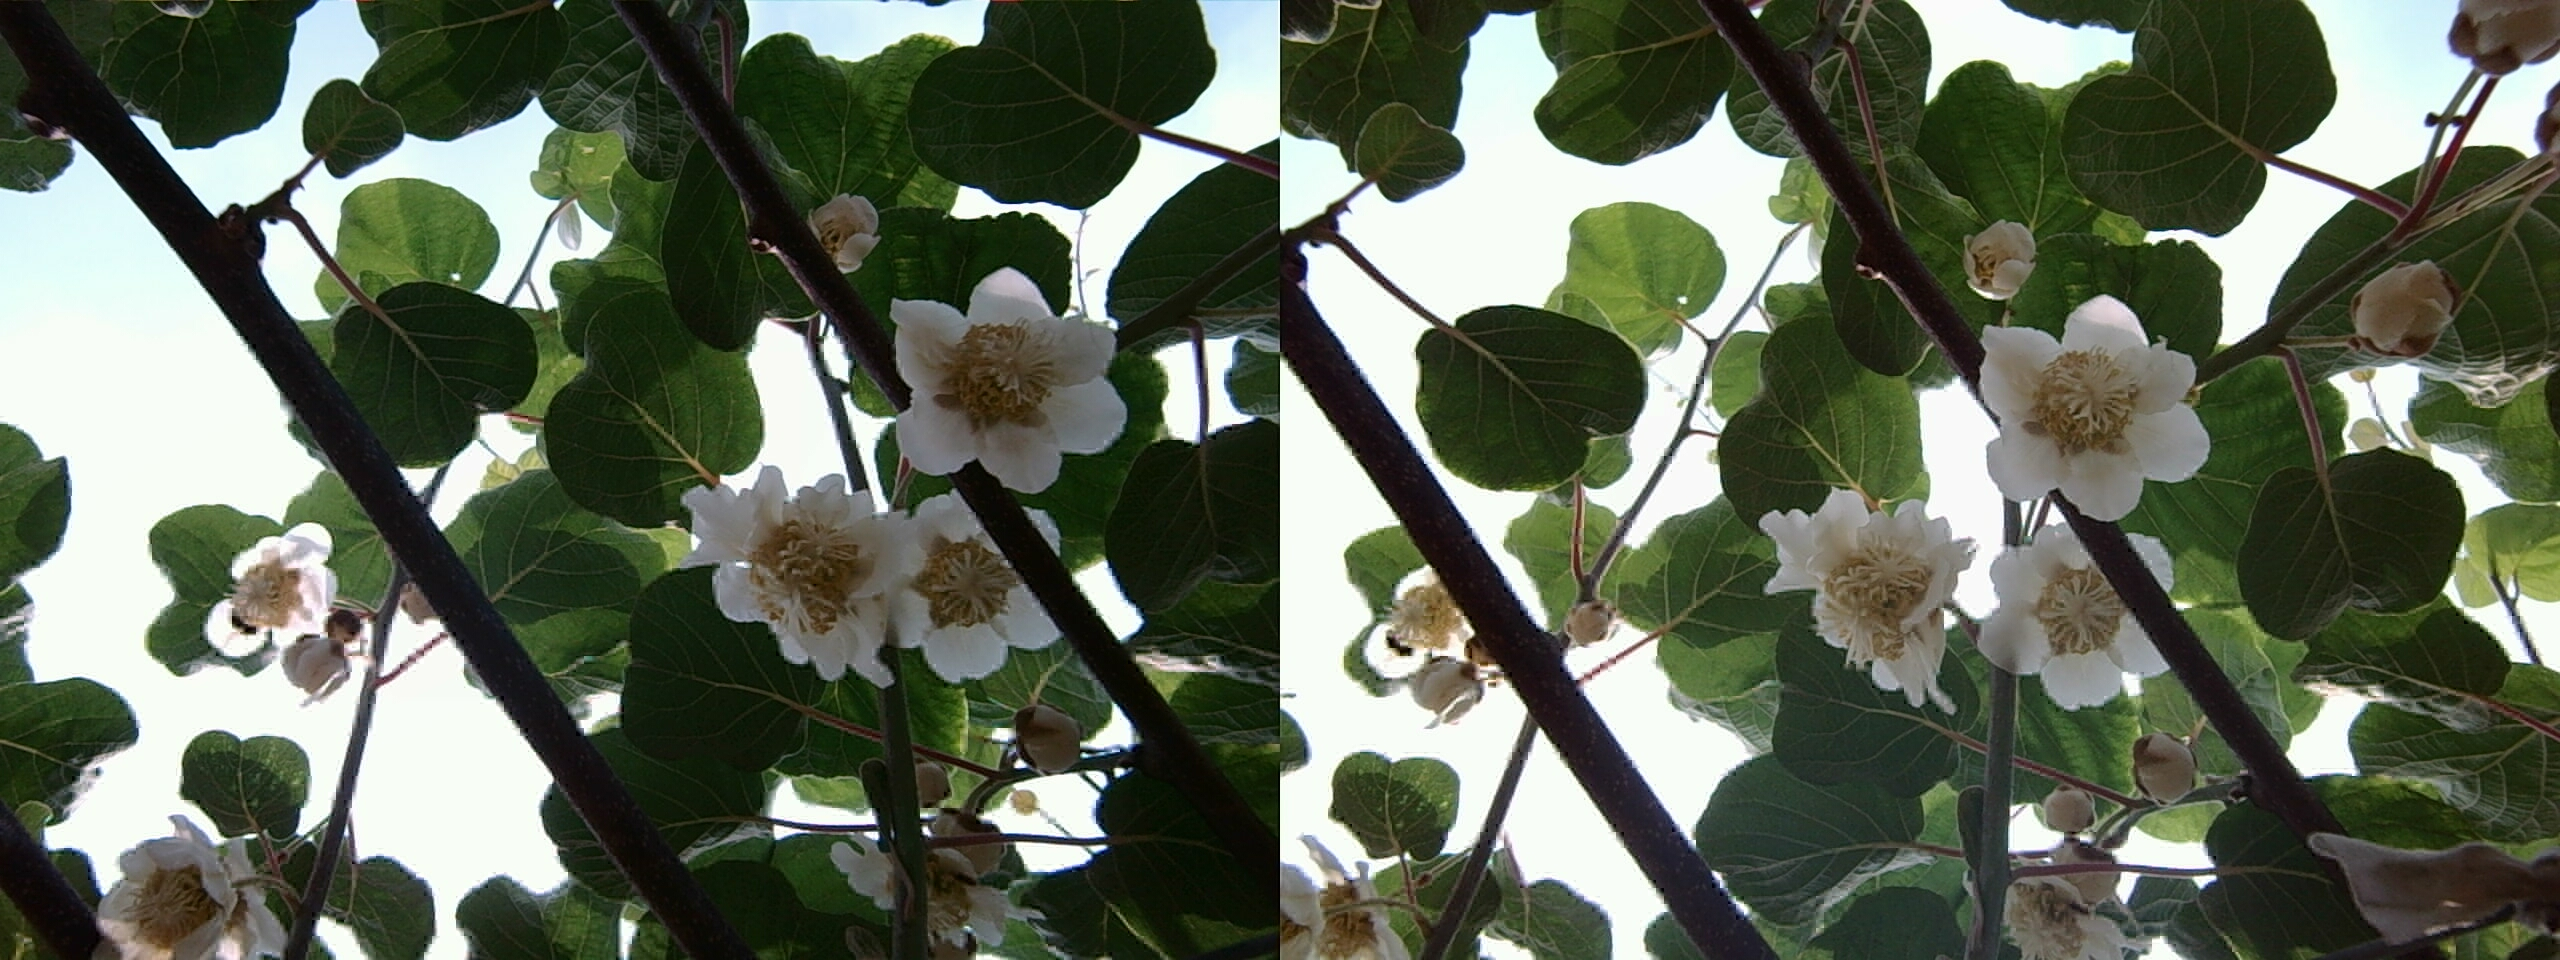flower: (1964, 286, 2206, 519), (888, 269, 1123, 495), (692, 456, 909, 678), (1757, 482, 1972, 697), (1966, 522, 2163, 696), (873, 500, 1048, 678), (188, 519, 343, 671), (101, 826, 264, 950), (1353, 565, 1481, 712)
